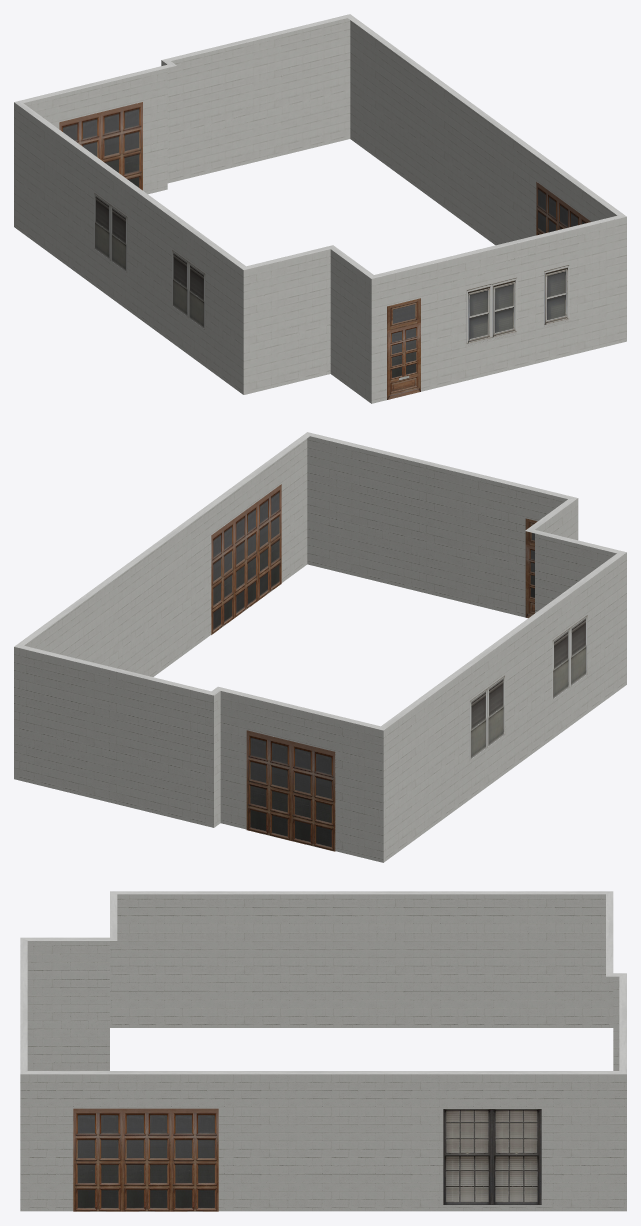
3 views of the same model, one above another, from view 1: azimuth 30°, elevation 25°; view 2: azimuth 150°, elevation 25°; view 3: azimuth 270°, elevation 25° (orthographic). The views are drawn at different scales.
Visible parts, largest first — view 1: wq, Rectangle060; view 2: wq, Rectangle060; view 3: wq.
Part boxes in pixels (x1,y1,x2,y2): wq: (14,14,626,403); Rectangle060: (387,298,420,399); wq: (14,432,626,862); Rectangle060: (525,518,537,618); wq: (20,891,626,1211).
Size of the model in its own units: 11532 by 4017 by 16236.
